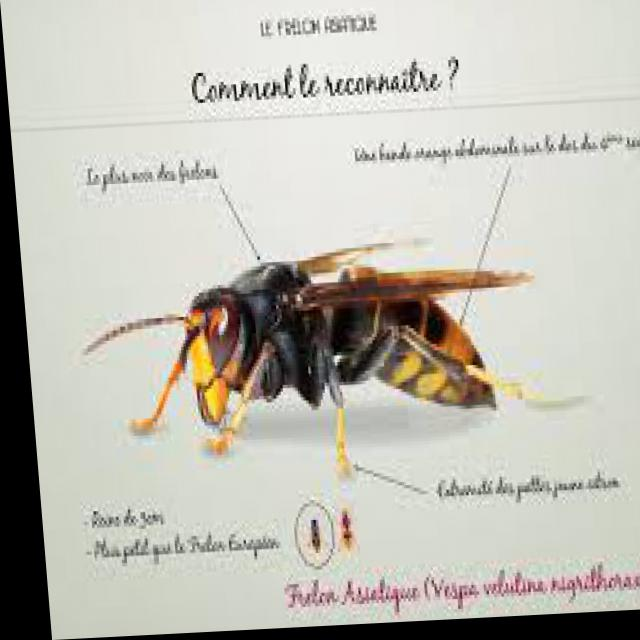Vespa Velutina: (65, 224, 590, 499)
